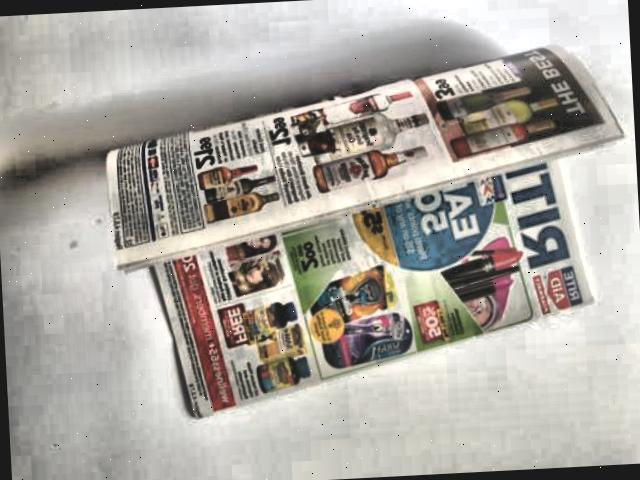Paper: (93, 23, 640, 437)
